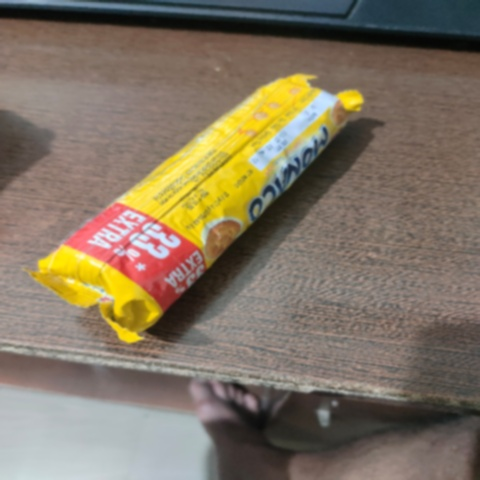monaco: (22, 55, 375, 349)
